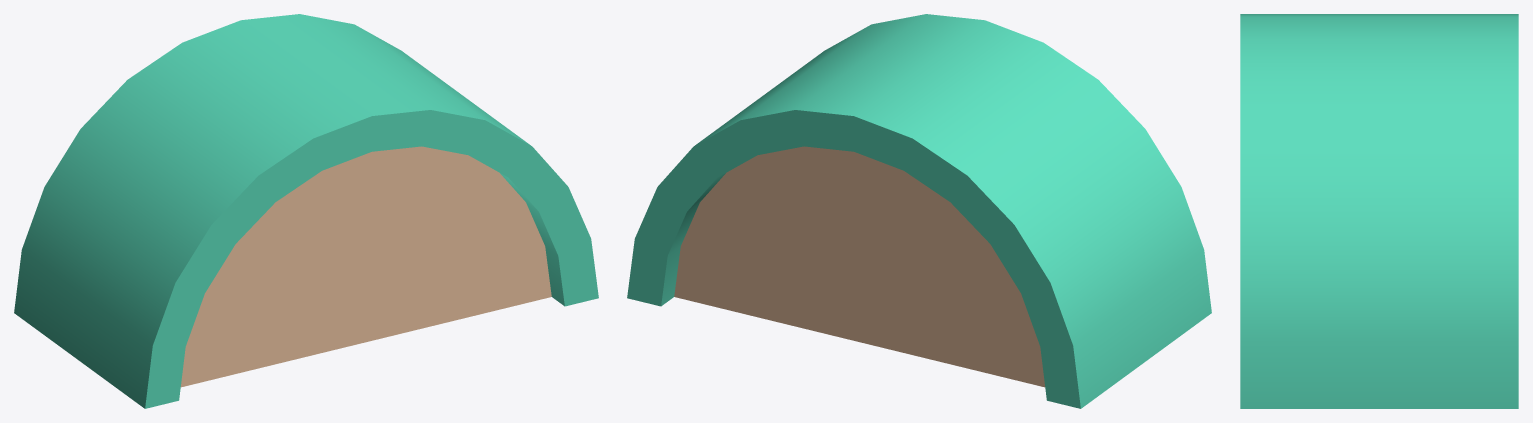
The picture shows the model from 3 angles, left to right: view 1: azimuth 30°, elevation 25°; view 2: azimuth 150°, elevation 25°; view 3: azimuth 270°, elevation 25°; orthographic projection. The views are drawn at different scales.
Visible parts, largest first — view 1: blockCurve; view 2: blockCurve; view 3: blockCurve.
Part boxes in pixels (x1,y1,x2,y2): blockCurve: (14,14,598,408); blockCurve: (627,14,1211,408); blockCurve: (1240,14,1518,408).
Size of the model in its own units: 2 by 1 by 1.
